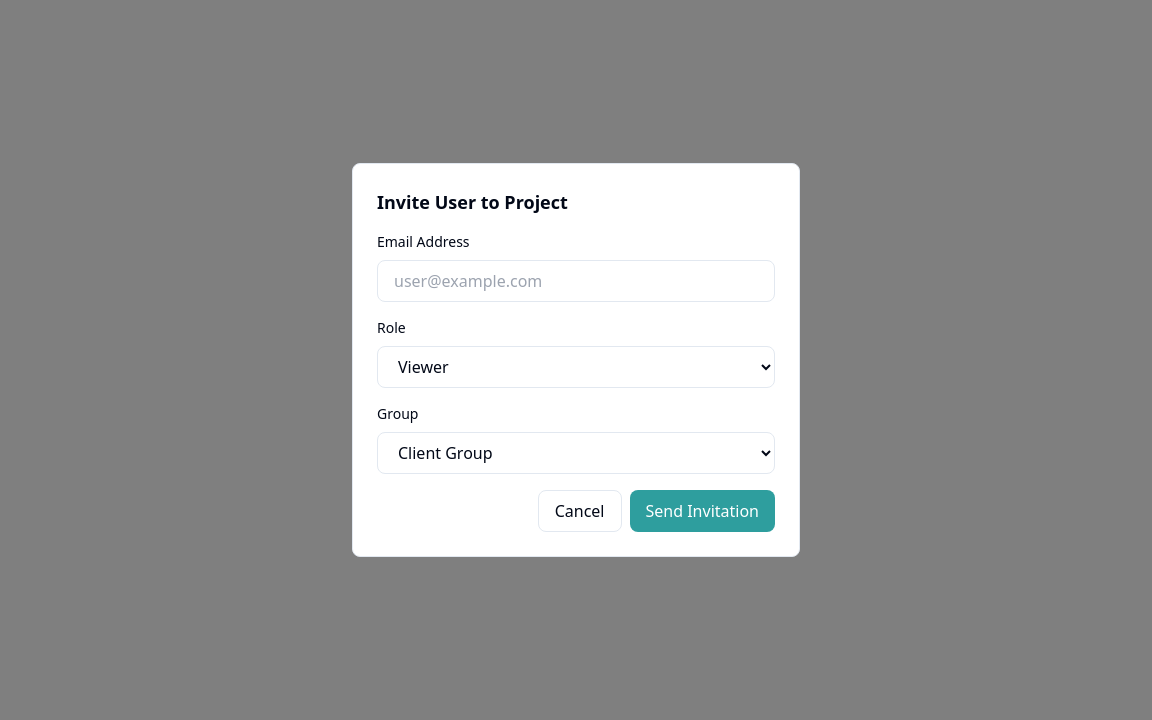
Test: InviteUserModal › should show error for invalid email
In the field with test id "email-input": point(576, 281) [377,260,775,302], type "invalid-email"
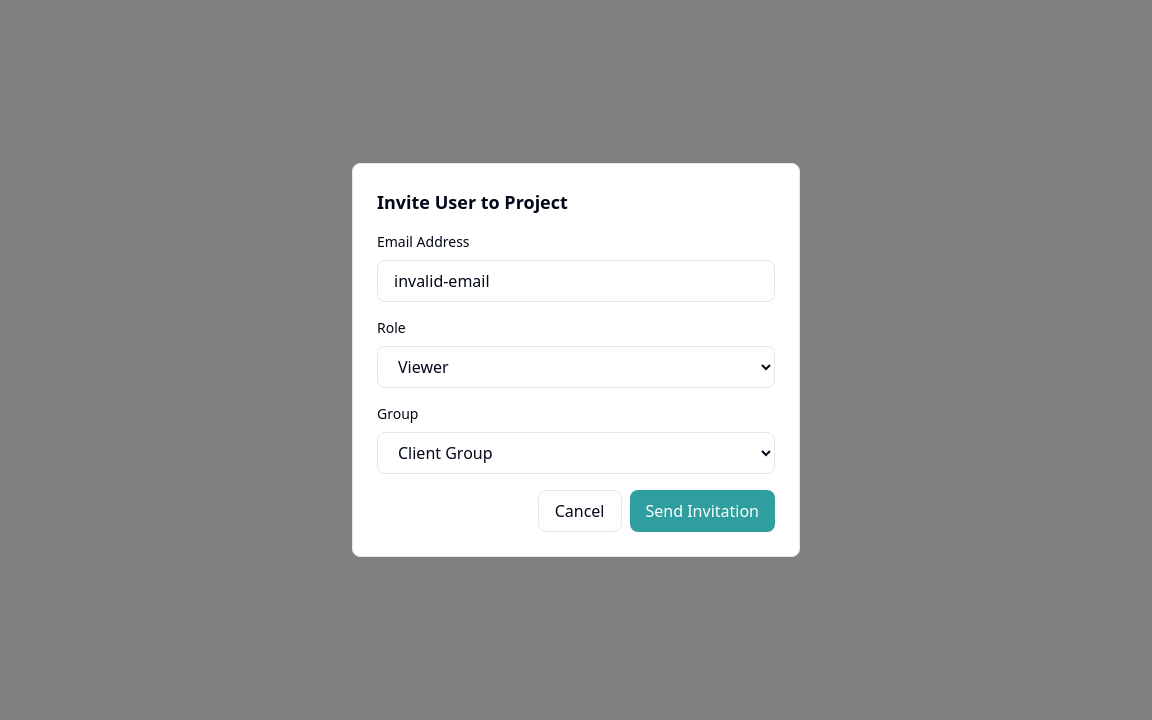
Click the button with test id "invite-button": point(702, 511) [630,490,775,532]
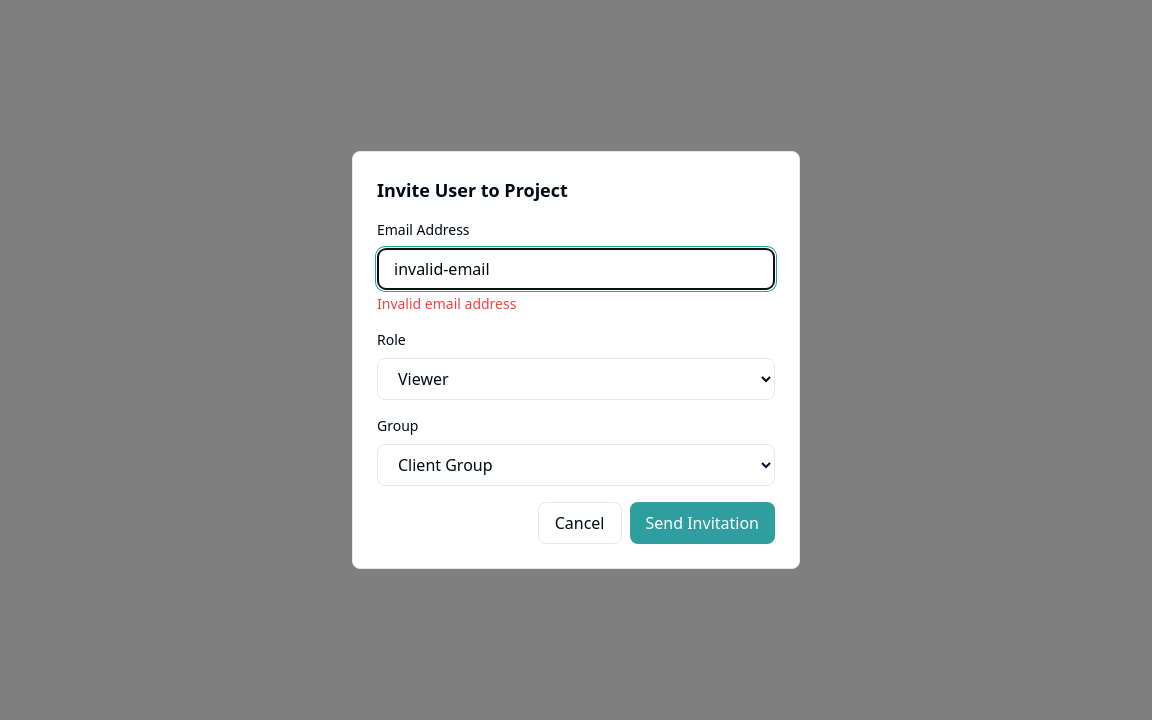
Now the text "Invalid email address" is shown, box [377,294,516,313]
